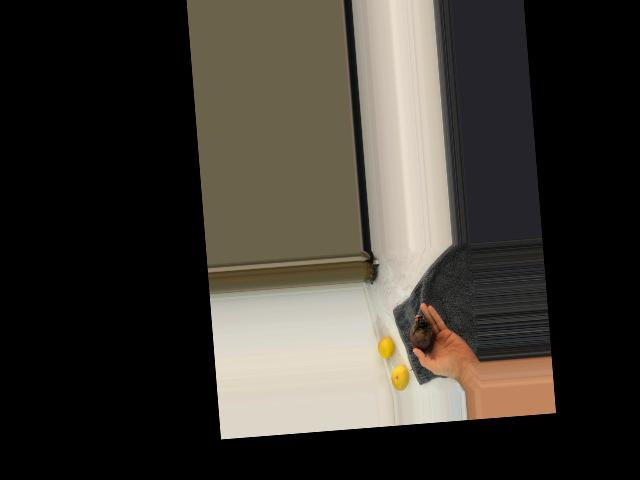beet: (406, 315, 437, 370)
